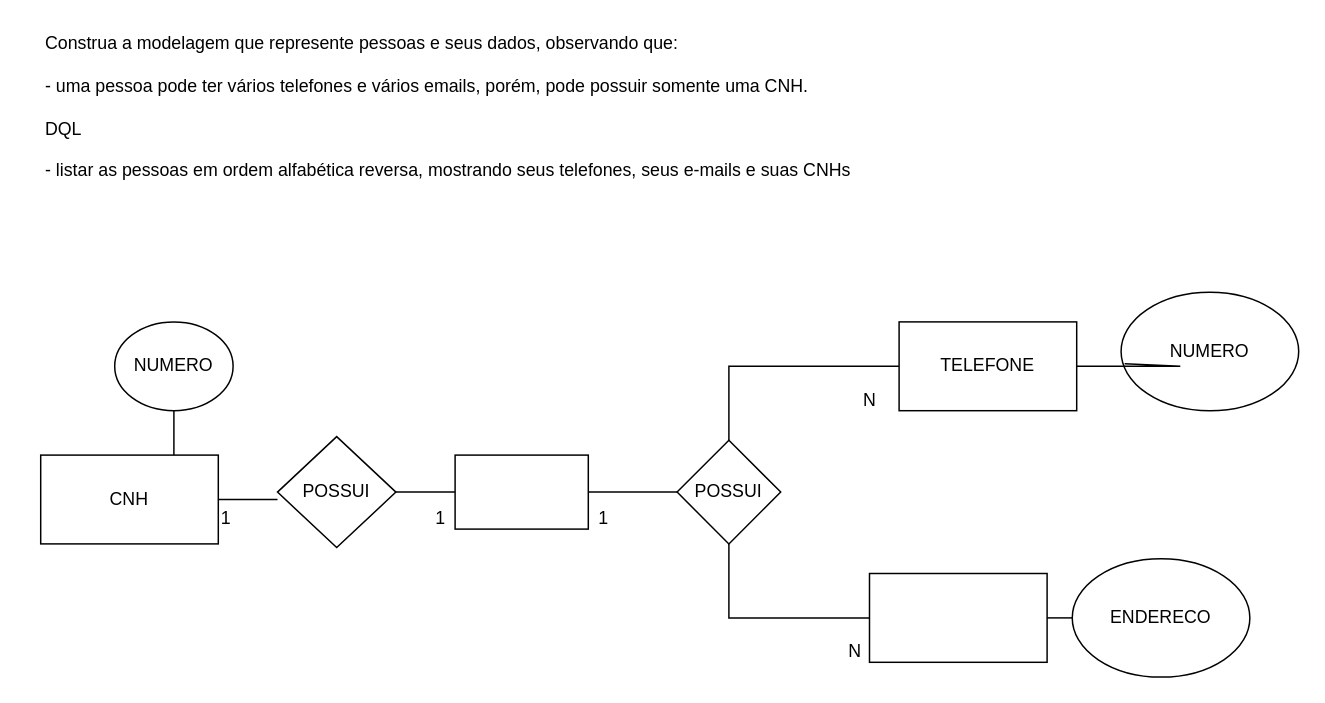
This 1325x703 diagram has some shape labels left out. The shapes that lost their labels are listed below. From the top down, each one's box as (x1, y1, x2, y2) in pixels, then its label:
(454, 454, 588, 529): PESSOA
(868, 572, 1047, 662): EMAIL
